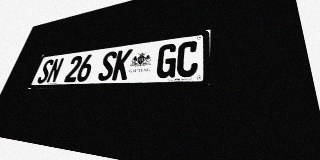2: (64, 55, 84, 82)
6: (75, 54, 96, 82)
C: (175, 40, 199, 78)
G: (155, 43, 178, 78)
K: (111, 49, 133, 80)
N: (45, 58, 65, 83)
S: (97, 51, 118, 81), (36, 59, 55, 84)
